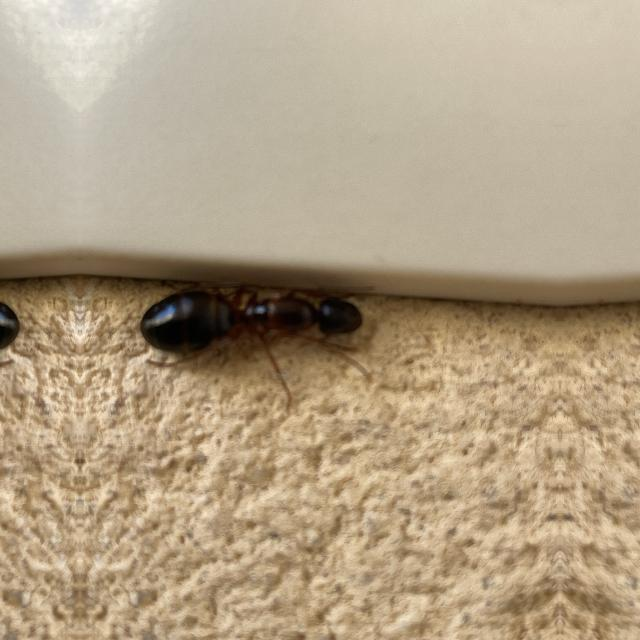Camponotus: (129, 238, 383, 396)
